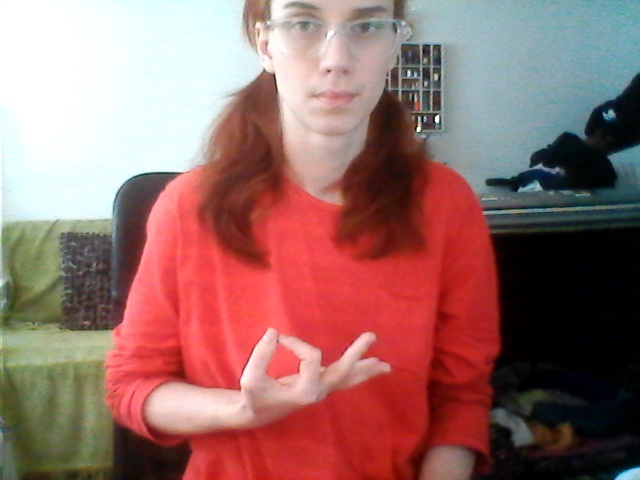co: (237, 327, 395, 420)
